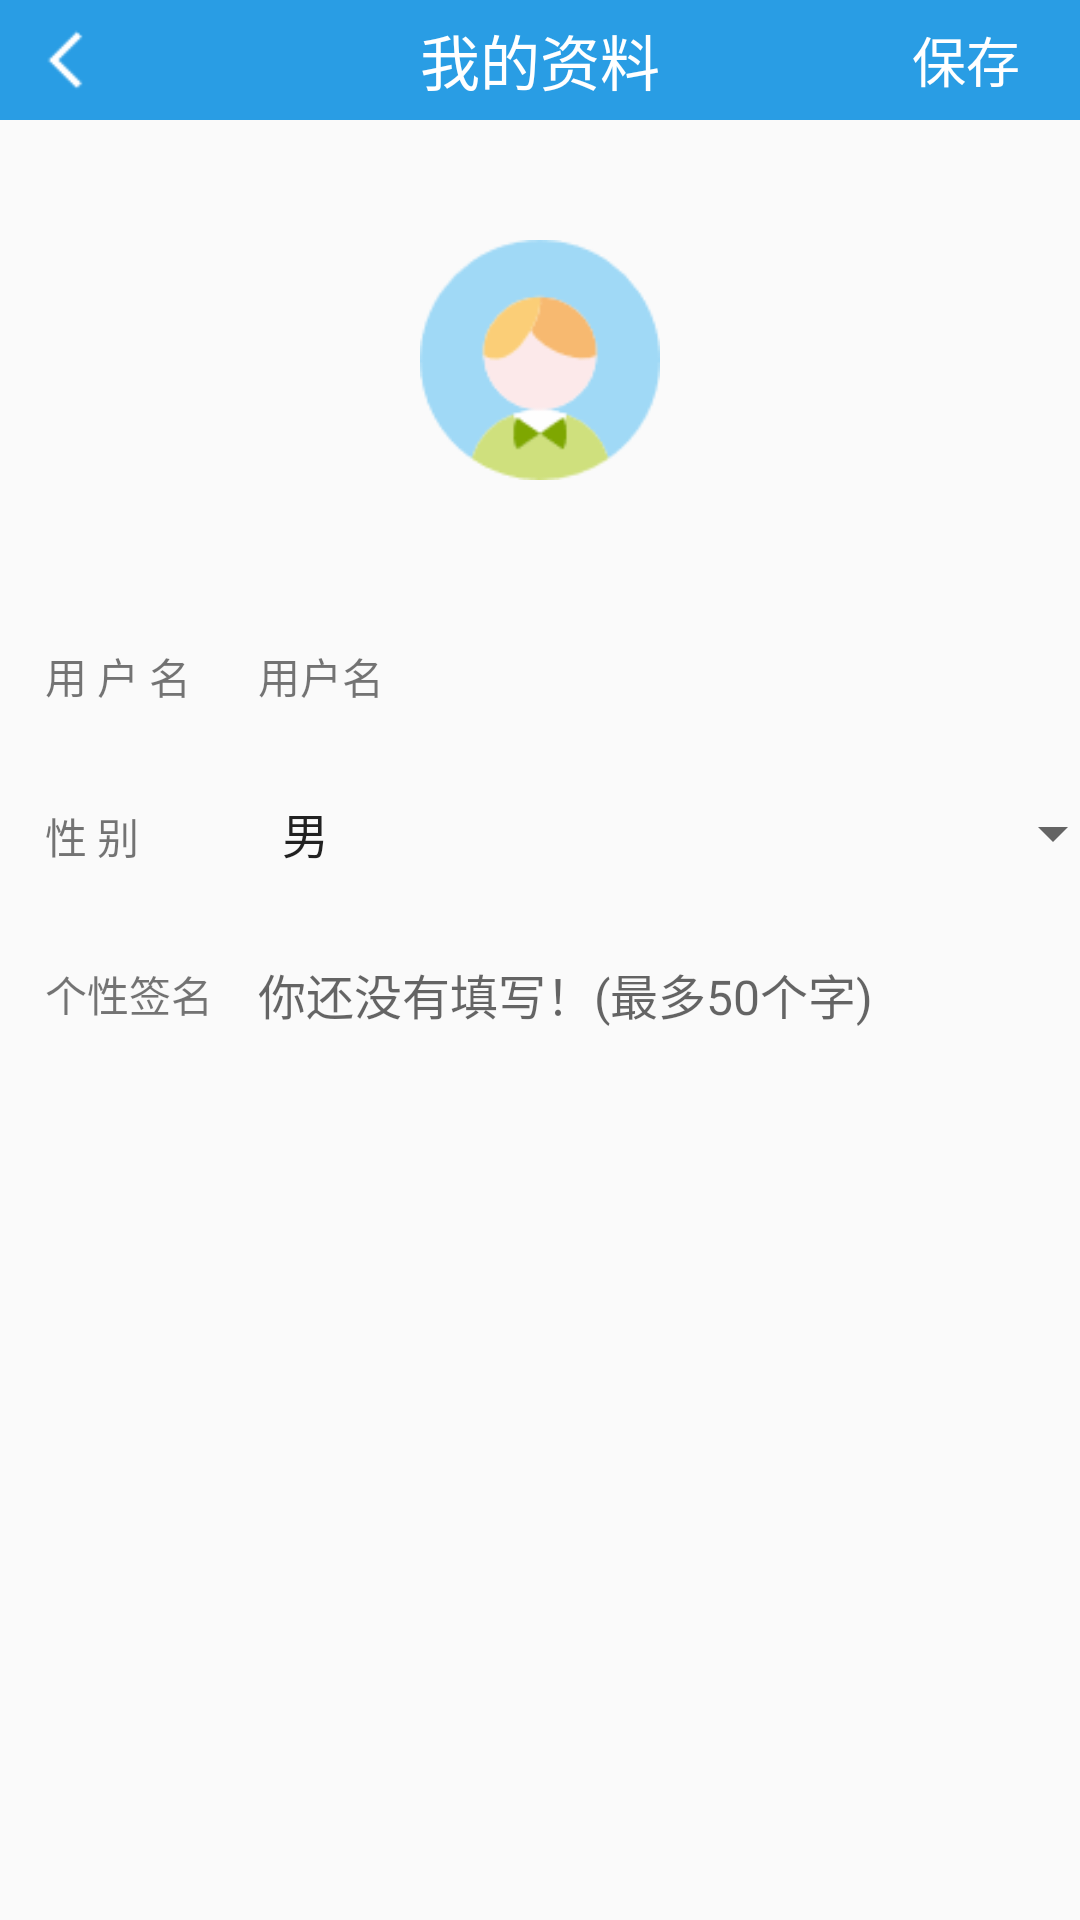

Where to tap for icons on this 1080px×1920px app screen, as (x,y):
portrait: (540,360)
